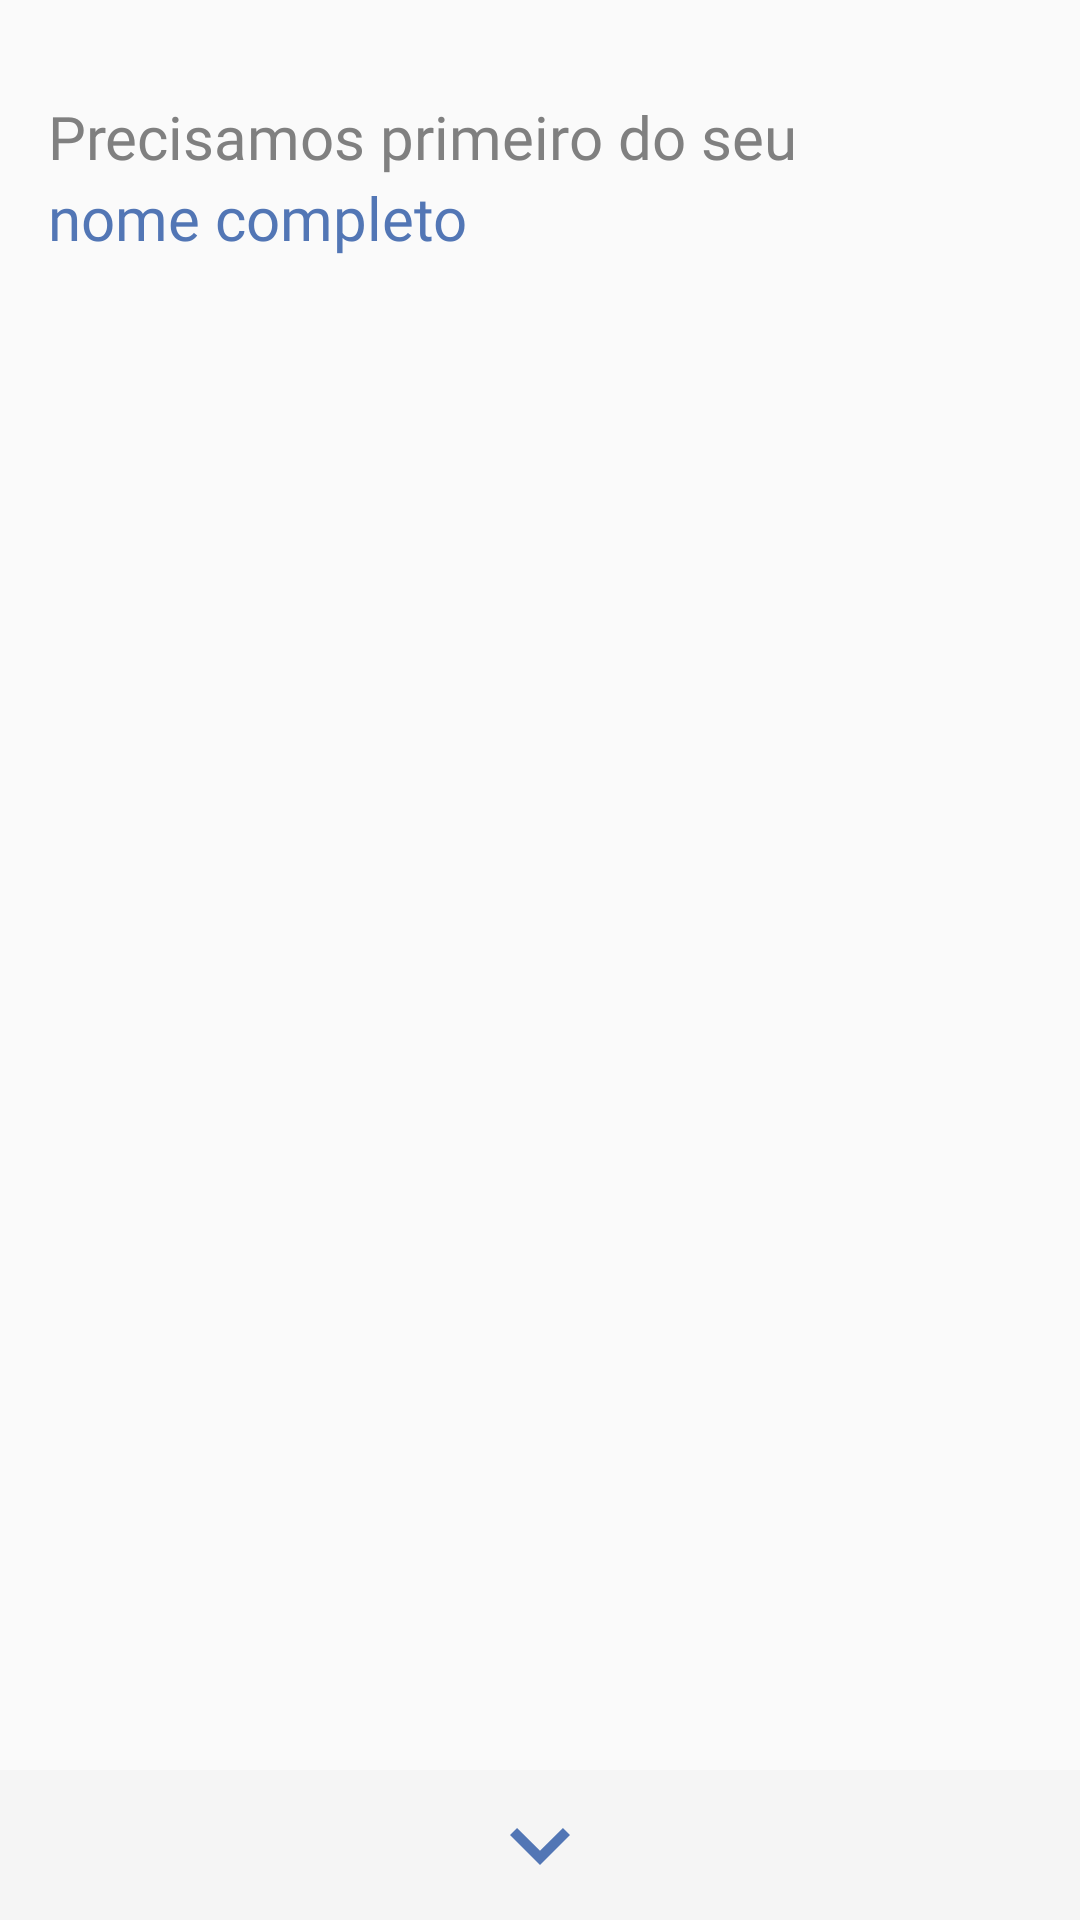

Point at icon controls on the screen. Image size 1080*1920, points as (x,y).
chevron down: (540,1846)
